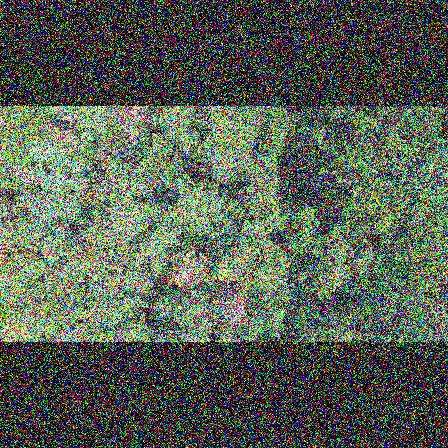Dead: (211, 282, 251, 328), (109, 107, 141, 154)
